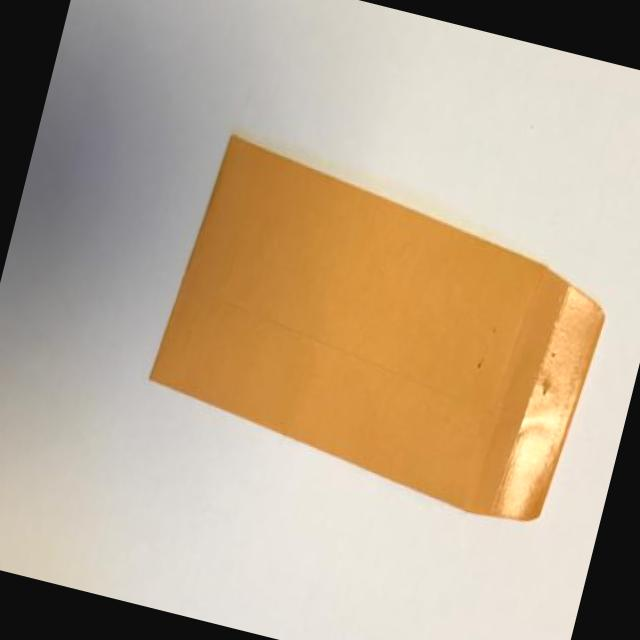giay: (148, 134, 604, 521)
